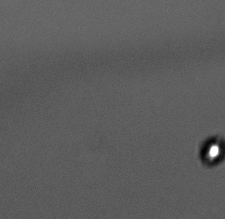Living Cell: (198, 133, 222, 169)
